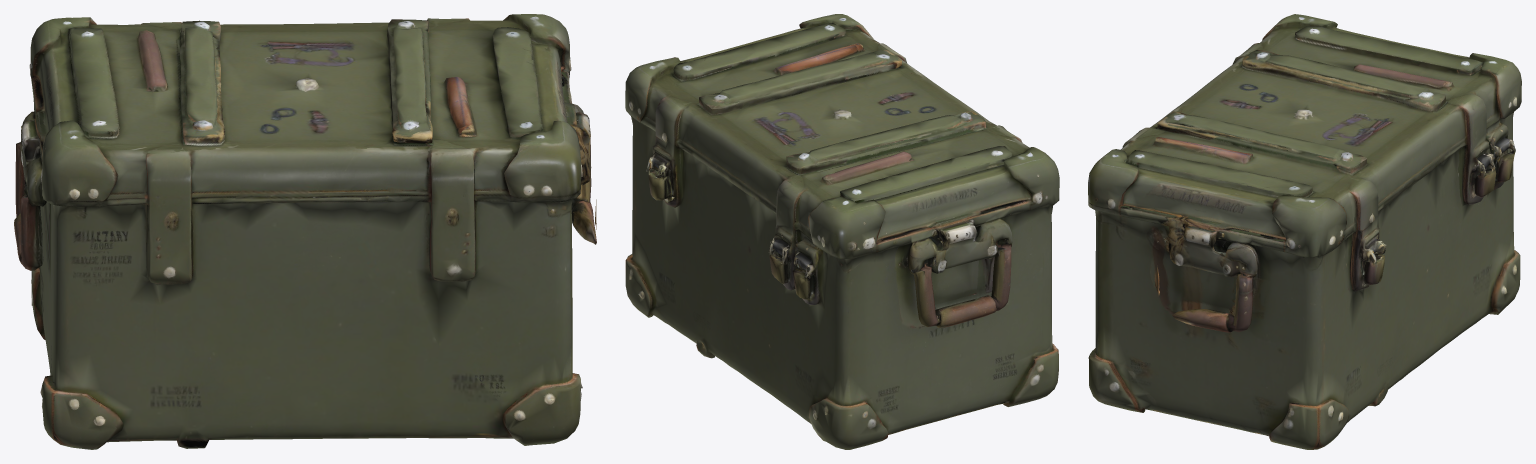
File: askeri_sandık_kutusu_0604200841_texture.glb
3 views of the same model, side by side, from view 1: azimuth 30°, elevation 25°; view 2: azimuth 150°, elevation 25°; view 3: azimuth 270°, elevation 25° (orthographic). The views are drawn at different scales.
Size of the model in its own units: 2 by 1.13 by 1.76.
1 material, 1 textured.
